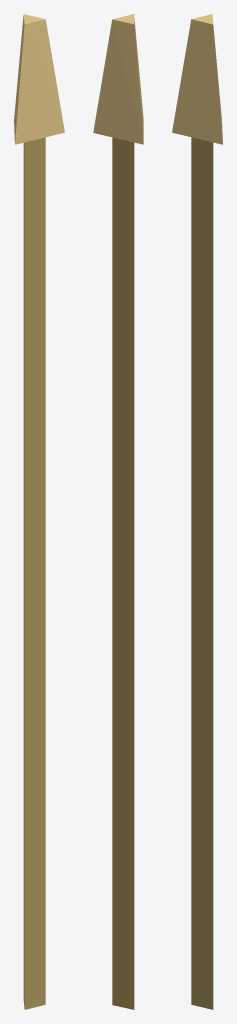
Rendered from field_wheat_stalk_light.obj.
3 renders of one model, left to right at view 1: azimuth 90°, elevation 25°; view 2: azimuth 150°, elevation 25°; view 3: azimuth 270°, elevation 25°, orthographic.
Visible parts, largest first — view 1: Stalk, Ear; view 2: Stalk, Ear; view 3: Stalk, Ear.
Part boxes in pixels (x1,y1,x2,y2): Stalk: (23, 137, 45, 1009); Ear: (14, 14, 64, 144); Stalk: (112, 137, 134, 1009); Ear: (93, 14, 143, 144); Stalk: (191, 137, 213, 1009); Ear: (172, 14, 222, 144).
Bounding box in the file's own units: 0.06 × 1.13 × 0.053.
